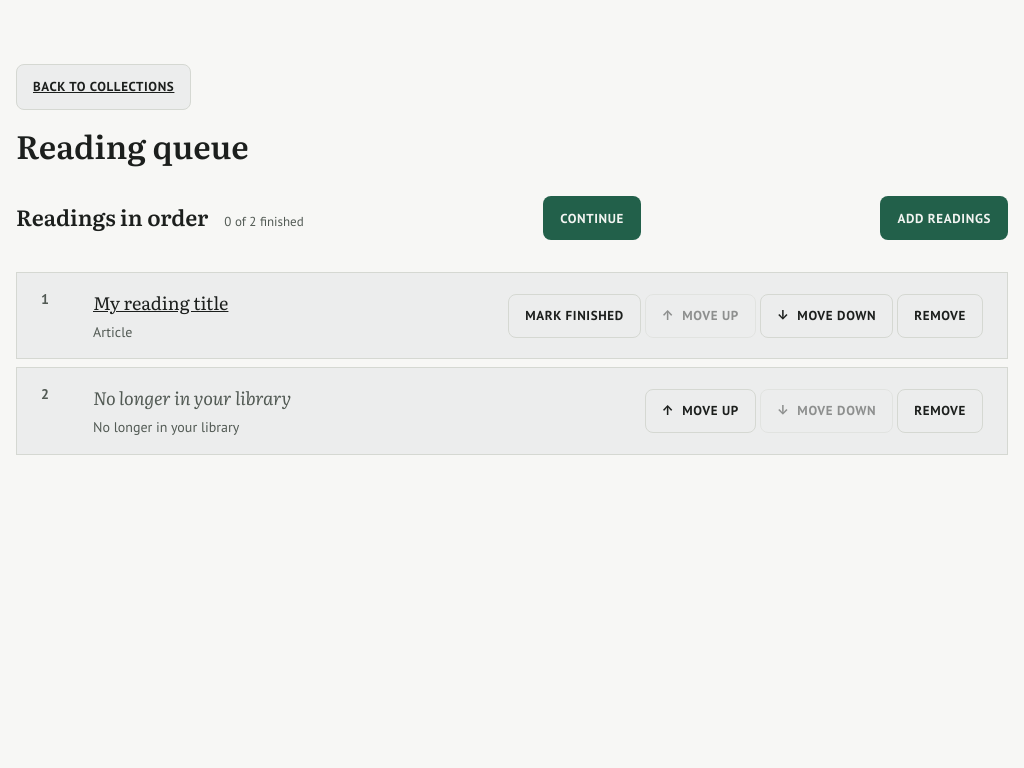
Test: membership-edit honest failures (issue #243) › a corrupt row announces RELOAD as the next step — a retry can never fix unreadable data
The width and height of the screenshot is (1024, 768).
Expected: the heading "Readings in order" is shown, [16,204,208,232]
Click the button with aria-label "Move this reading up — position 2 of 2" at (700, 411), box [645,389,756,433]
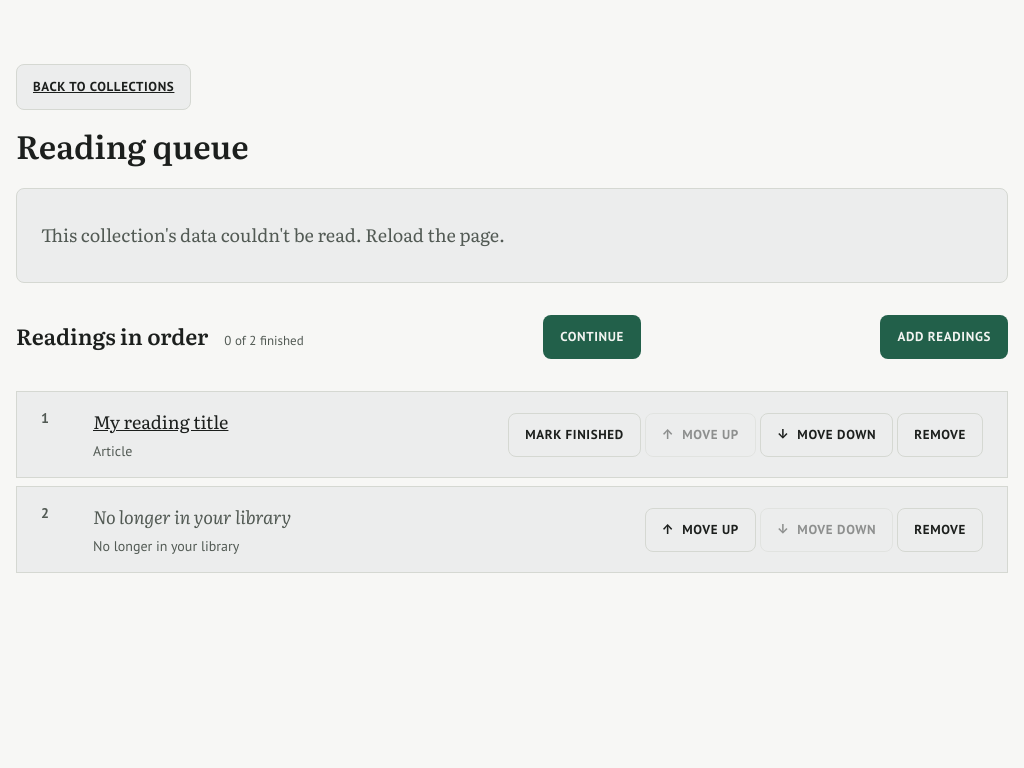
Result: the text "This collection's data couldn't be read. Reload the page." is shown at [41,221,505,248]
